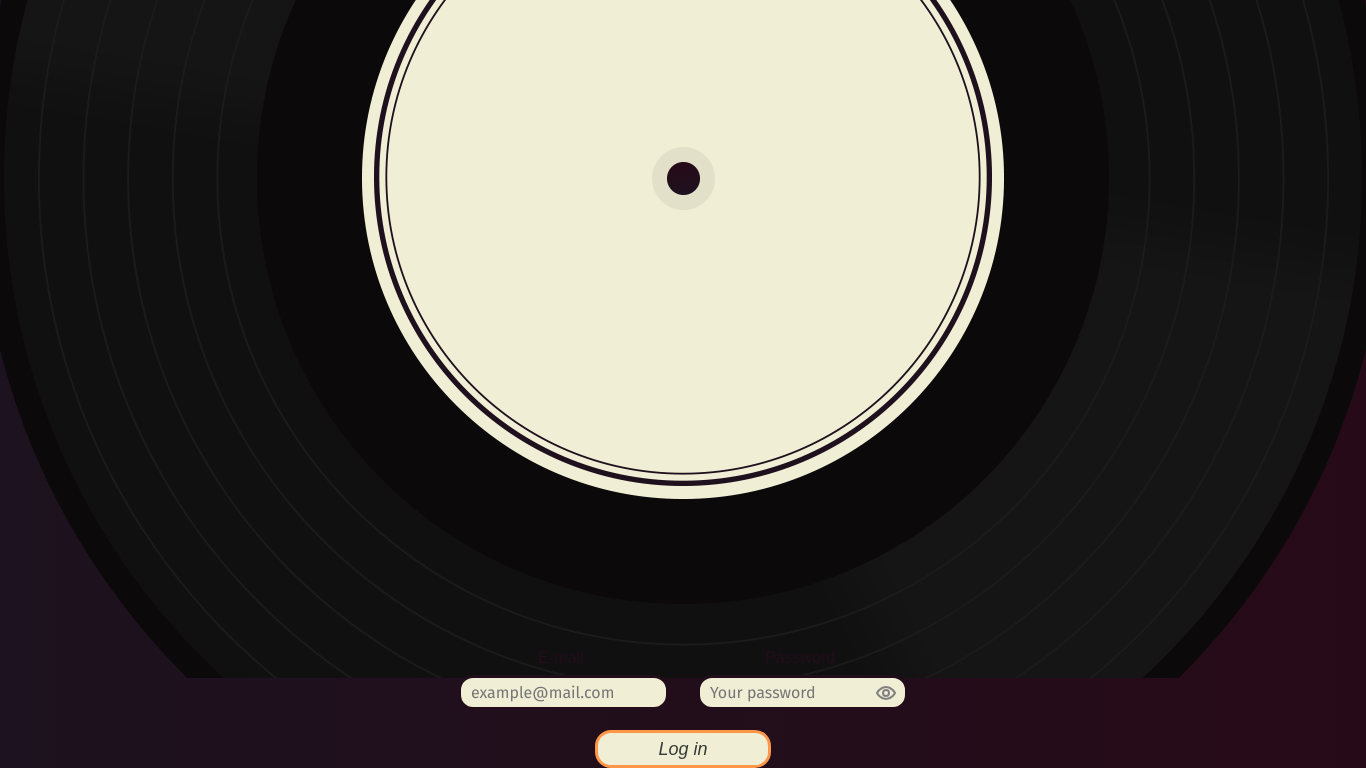
Test: LoginForm › Form Validation › Password Validation › should show minimum length error for short passwords
The width and height of the screenshot is (1366, 768).
(page scrolled)
Type "test@example.com" into the field labelled "E-mail" at (564, 692), box [458,675,669,710]
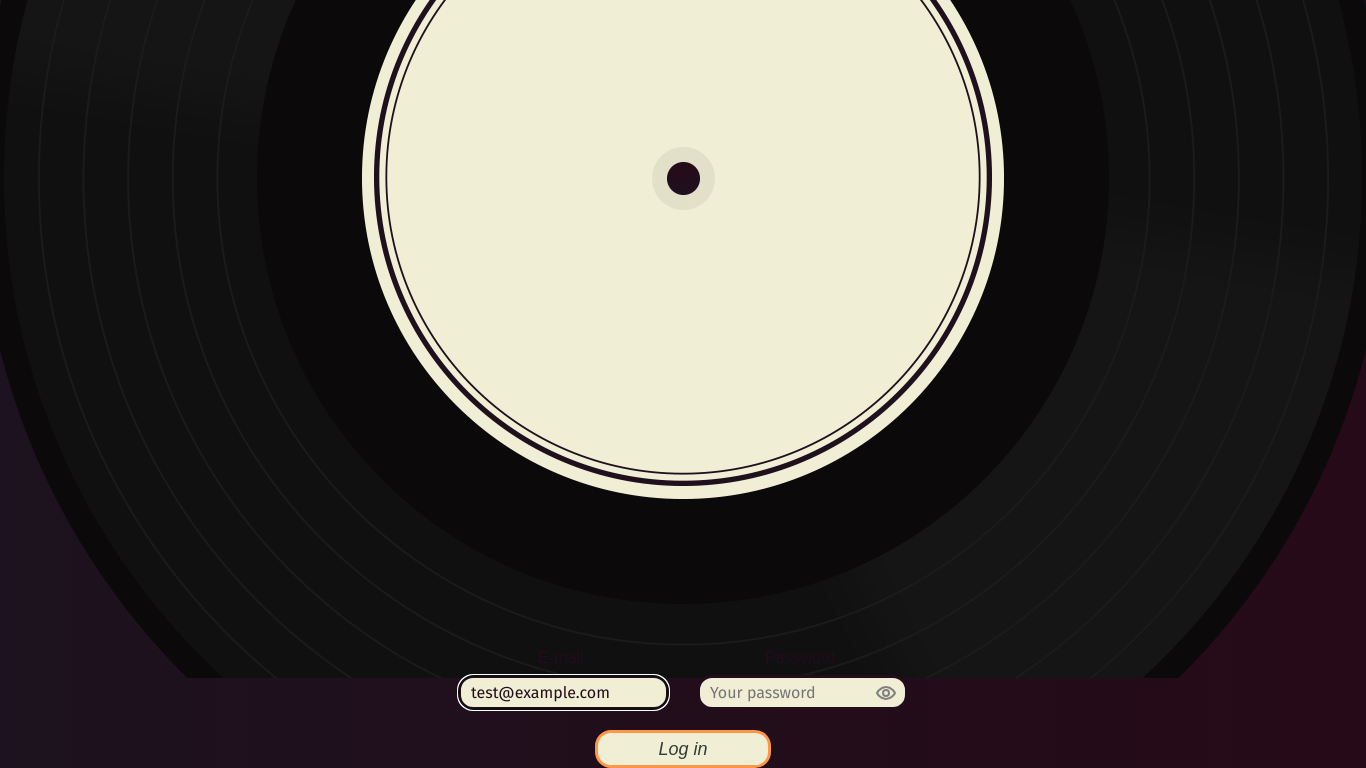
Type "12345" into the password field labelled "Password" at (802, 692), box [697,675,908,710]
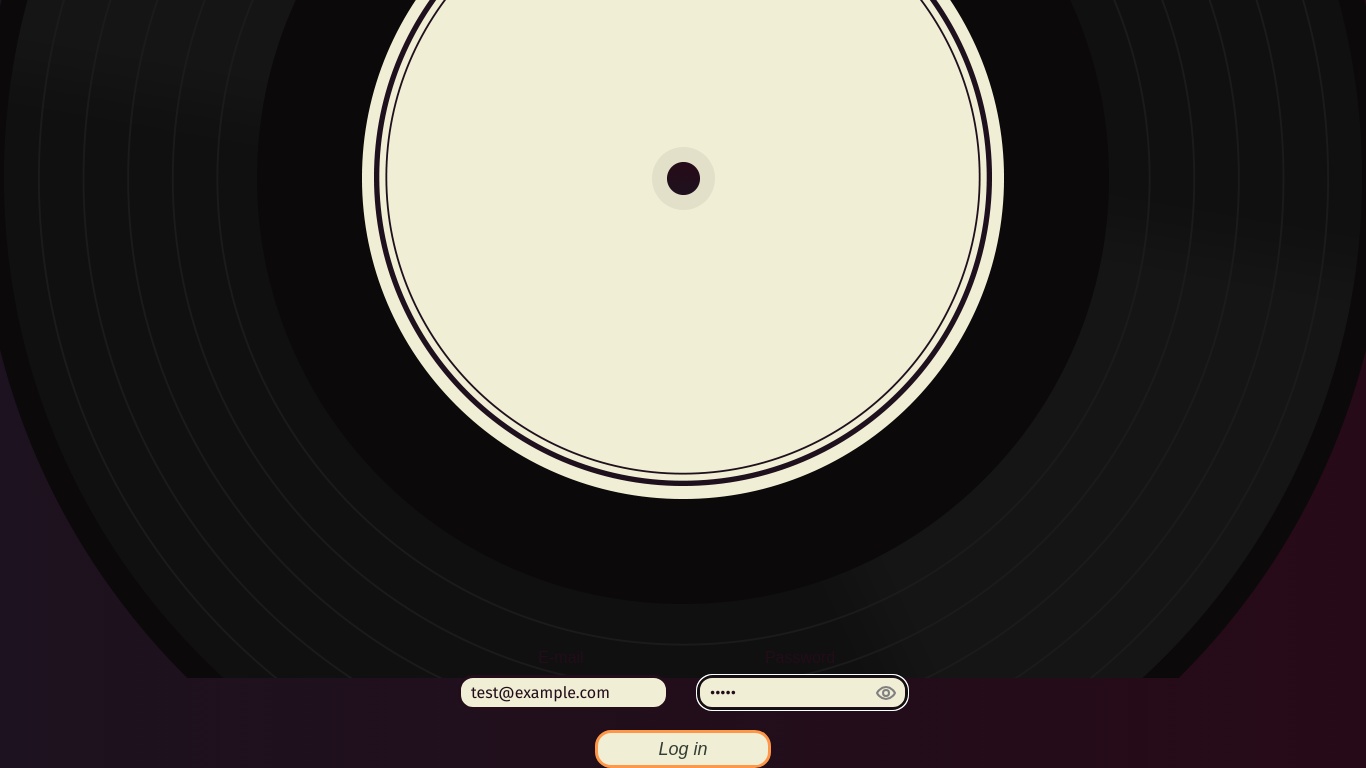
Click the button "Log in" at (683, 749), box [595,730,771,767]
(page scrolled)
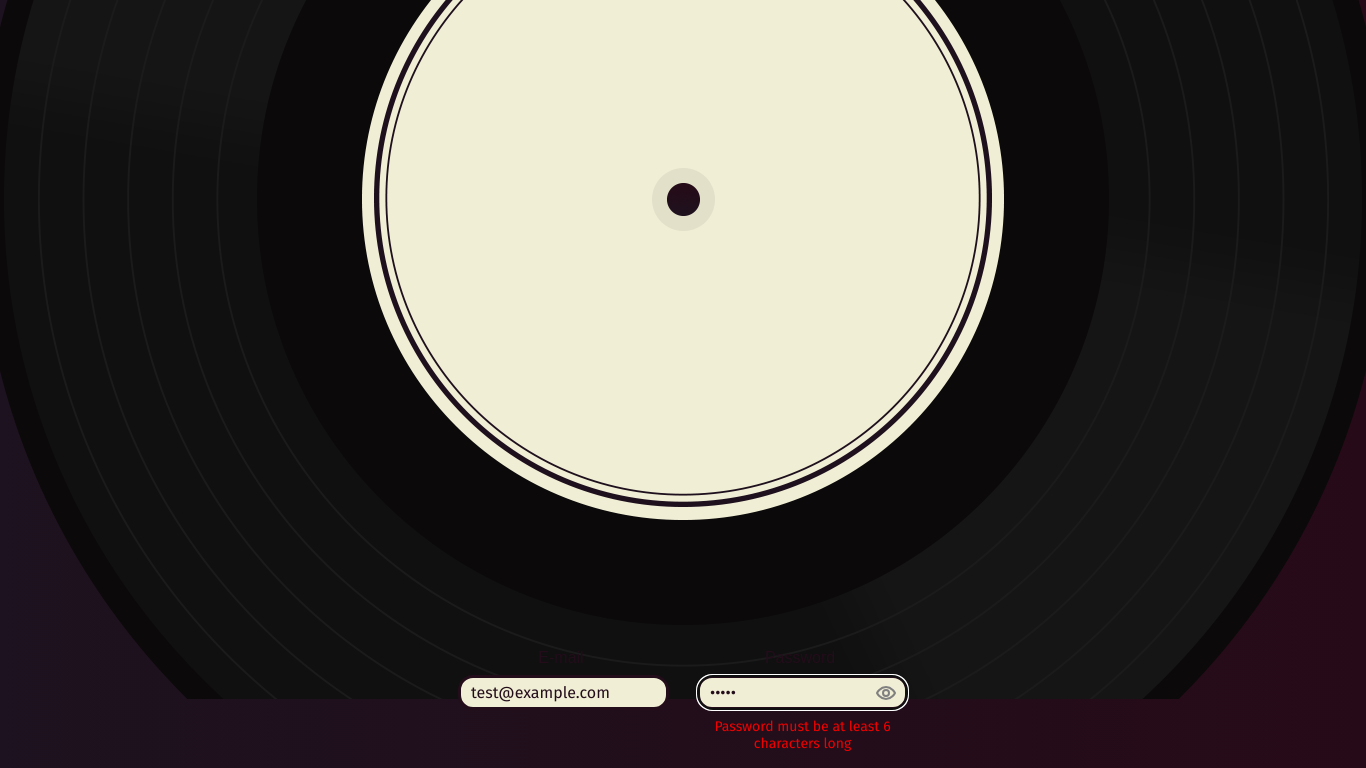
Now the text "Password must be at least 6 characters long" is shown, box [714,718,891,752]
